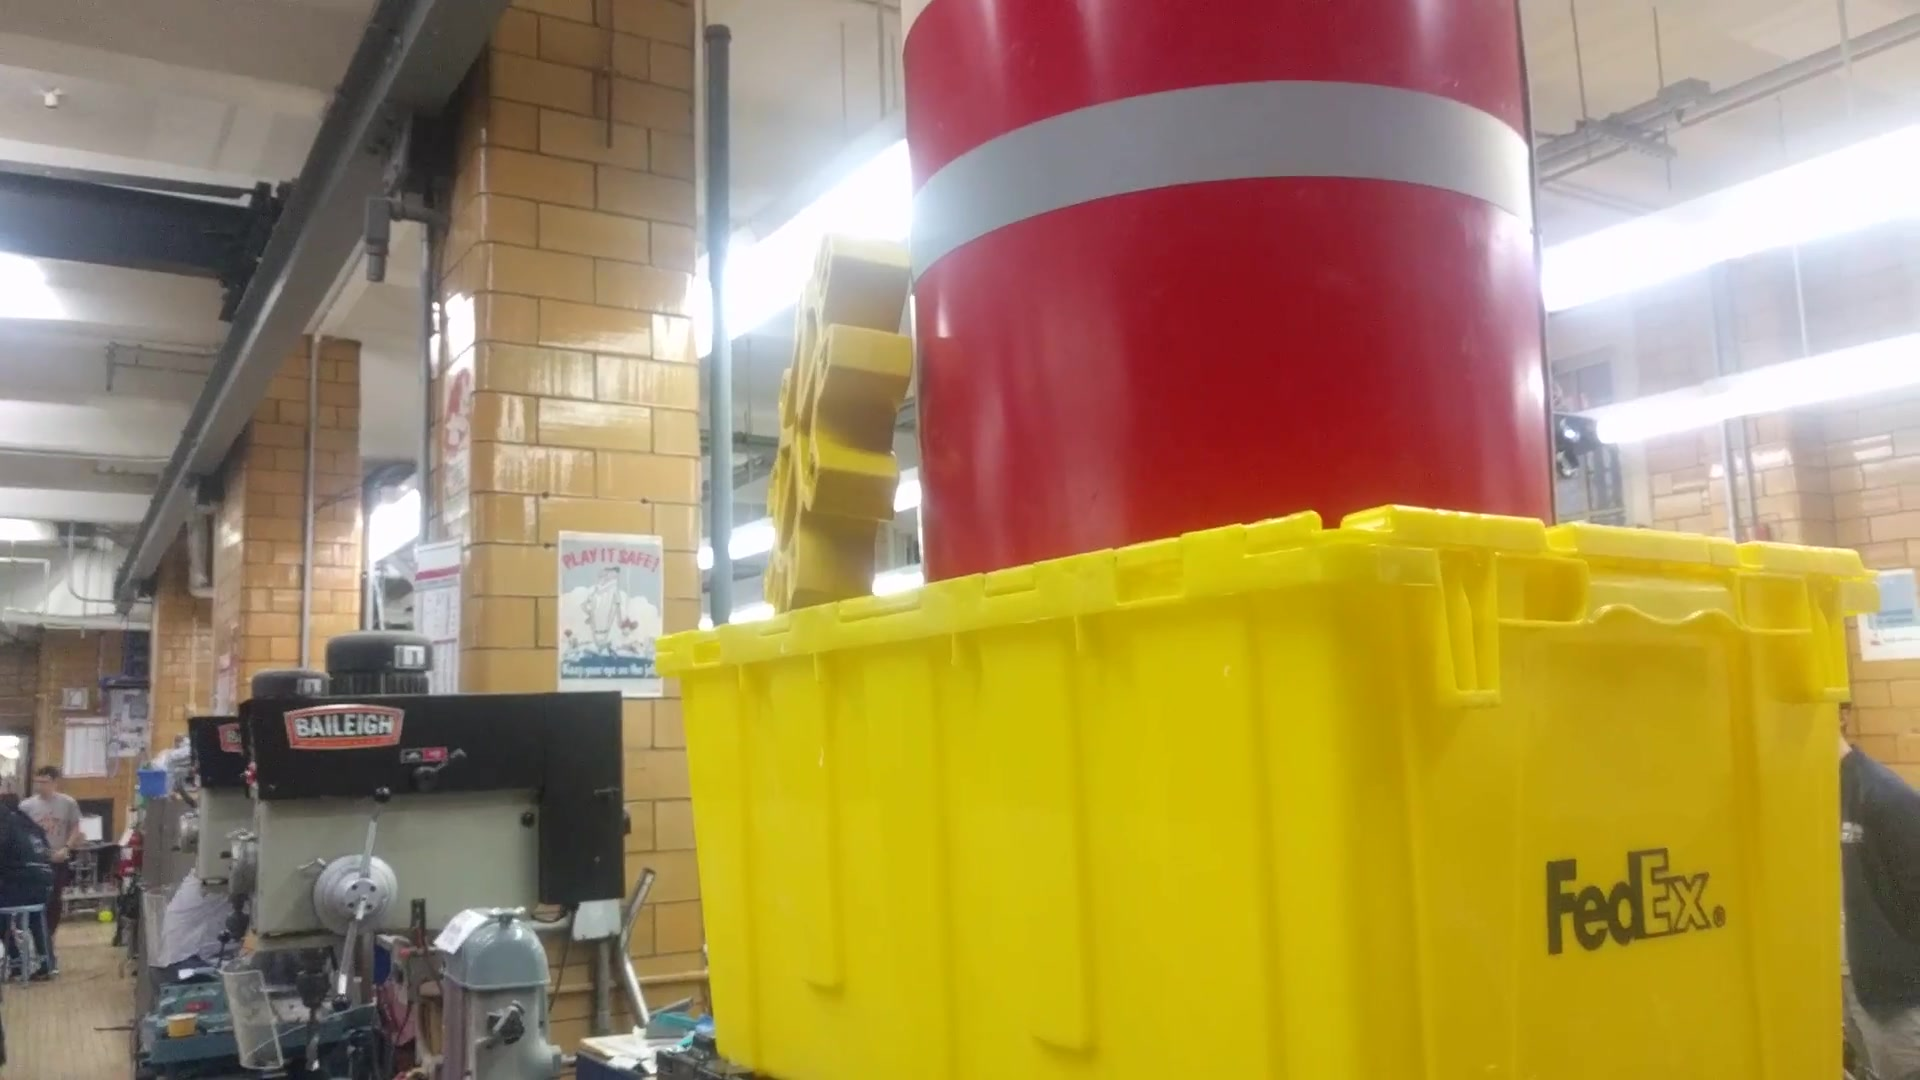gear: (760, 229, 913, 618)
